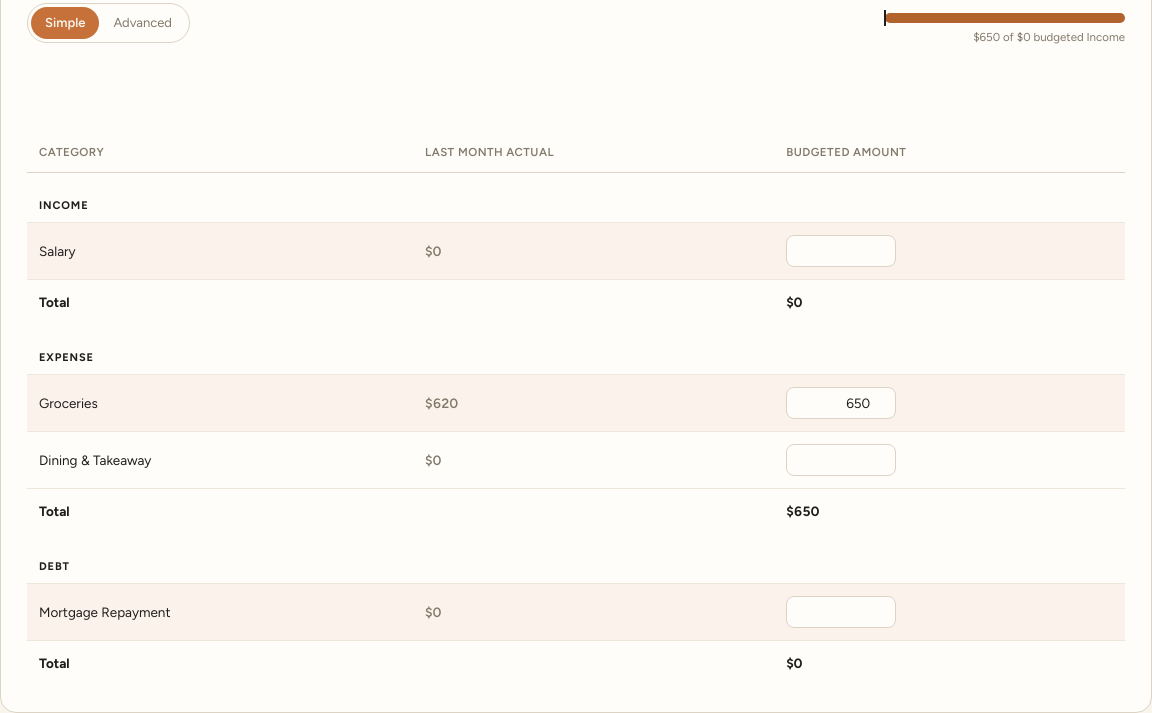
Test: Budget › recalculates the Total row live as an input changes, before Save
The image size is (1152, 713).
(page scrolled)
Replace the text in the number field named "Groceries Budgeted Amount" with "700" at coordinates (841, 403), box x1=786 y1=387 x2=896 y2=419
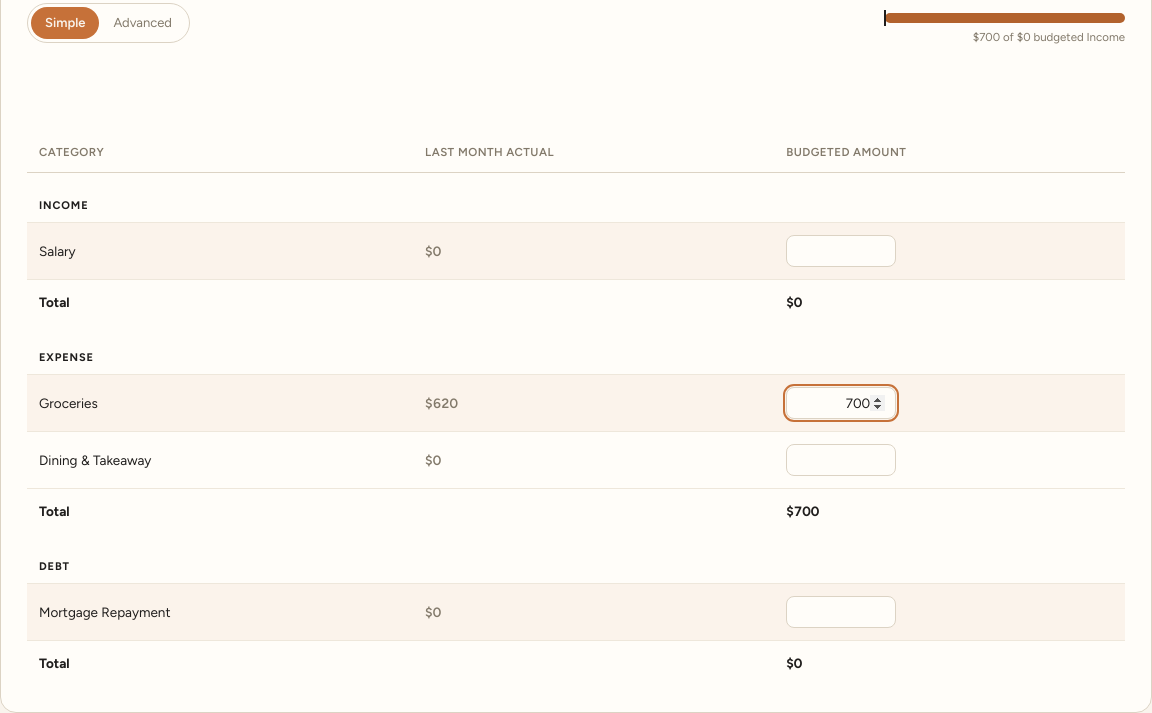
Check: the text "Total" shows "$700", box x1=786 y1=503 x2=819 y2=519
